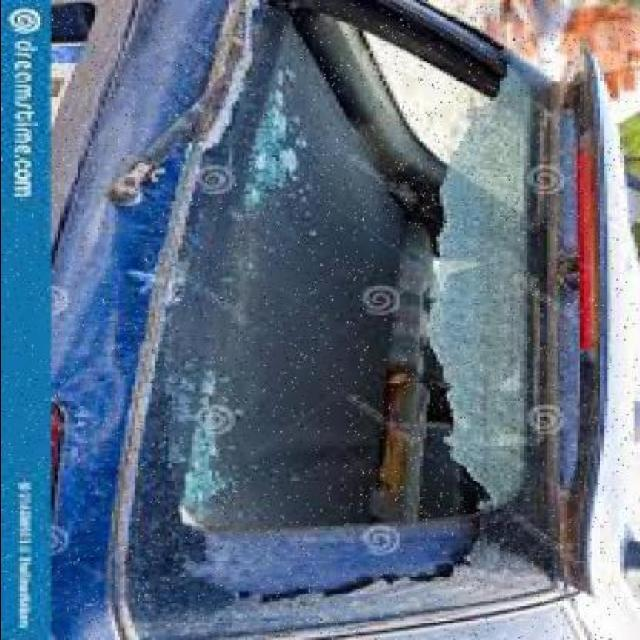Rear-windscreen-Damage: (83, 0, 597, 634)
